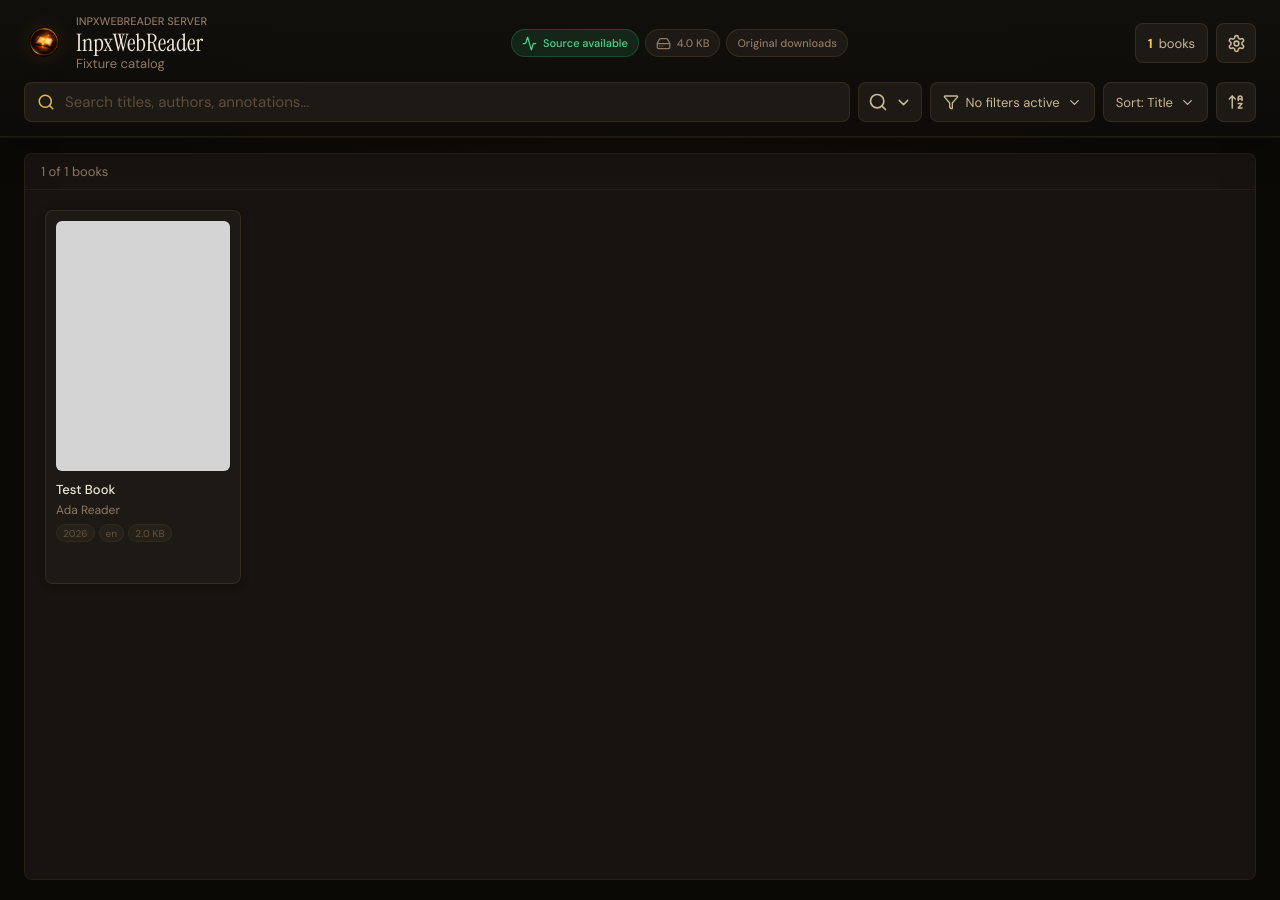
web UI components › keeps scan start errors visible in both the startup dialog and global notifications
Expected: the heading "InpxWebReader" is shown, x1=76 y1=31 x2=207 y2=55
Click the button named "Settings" at (1236, 43), box x1=1216 y1=23 x2=1256 y2=63
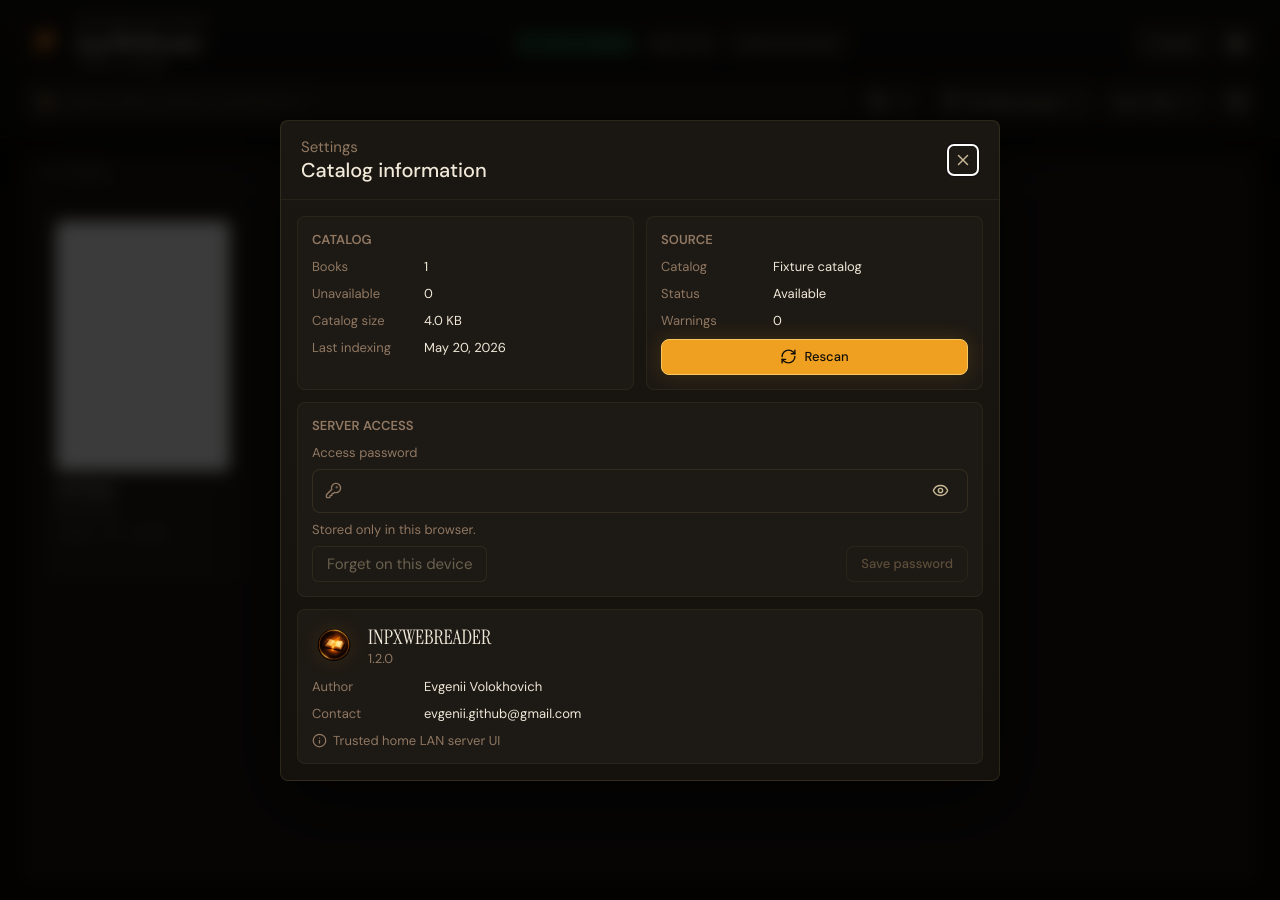
Click the button "Rescan" at (814, 356), box x1=661 y1=338 x2=968 y2=374
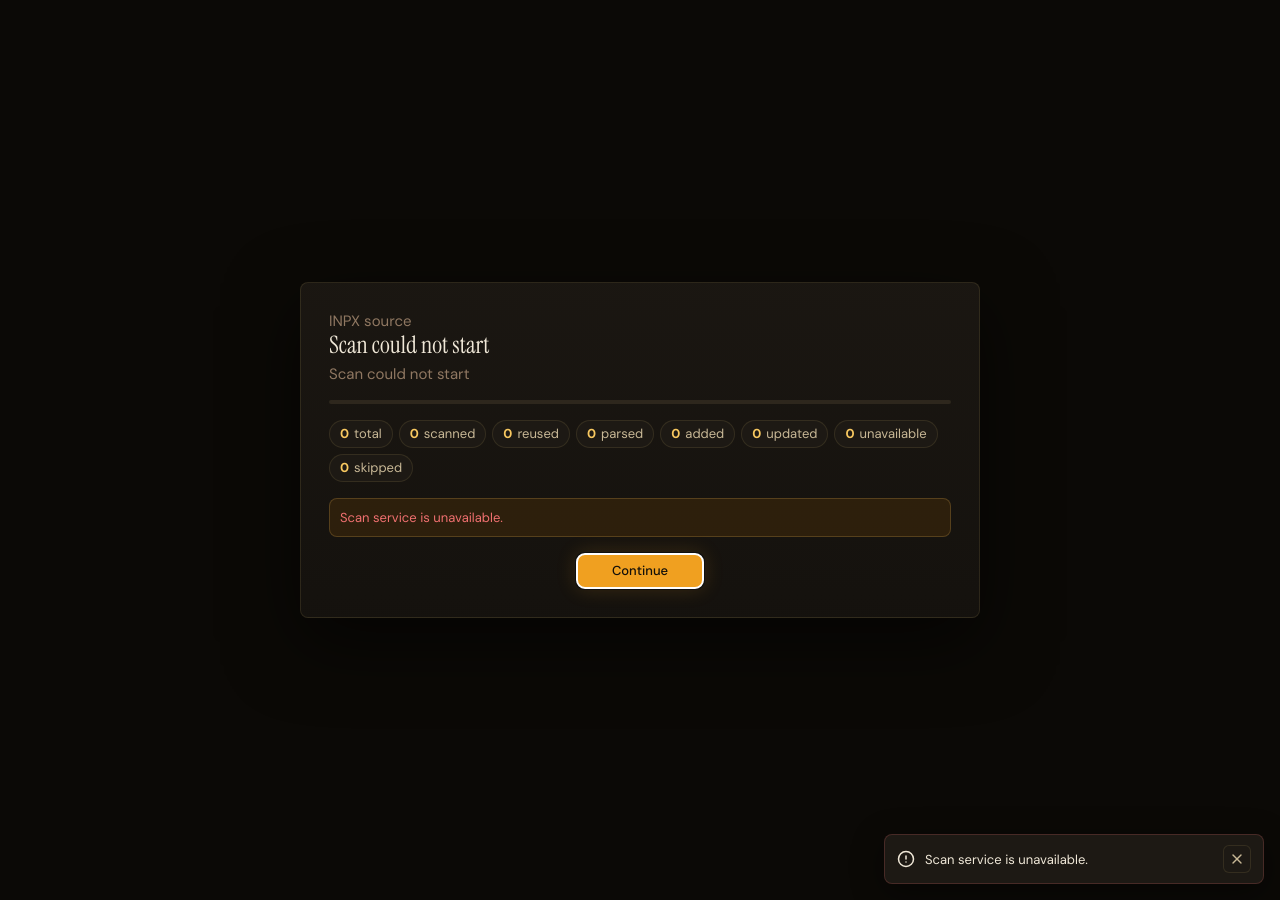
Result: the heading "Scan could not start" is shown at x1=329 y1=329 x2=489 y2=360
Result: the message "Scan service is unavailable." is shown at x1=329 y1=498 x2=951 y2=537
Result: the element named "Notifications" reads "Scan service is unavailable." at x1=925 y1=850 x2=1088 y2=868
